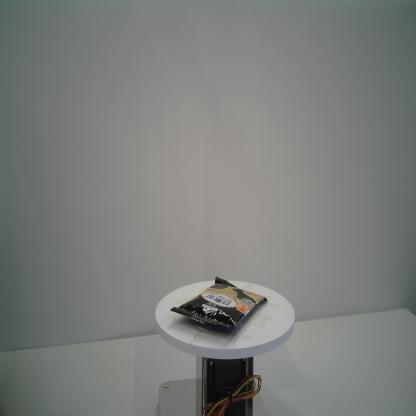Instant Drink: (170, 277, 268, 330)
